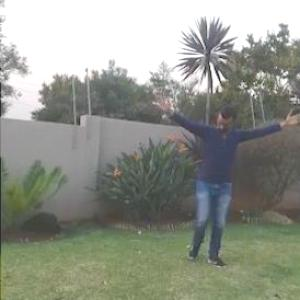takeoff: (156, 88, 290, 282)
